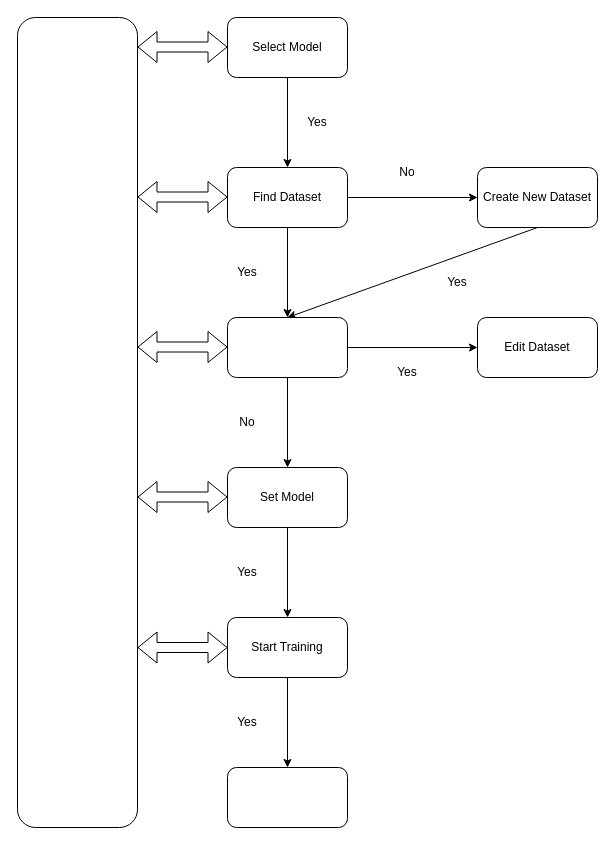
This 615x845 diagram has some shape labels left out. The shapes that lost their labels are listed below. From the top down, each one's box as (x1, y1, x2, y2) in pixels, then its label:
(226, 316, 348, 378): Is dataset need to edit?
(16, 16, 138, 828): Error Check
(226, 766, 348, 828): You can start detection
